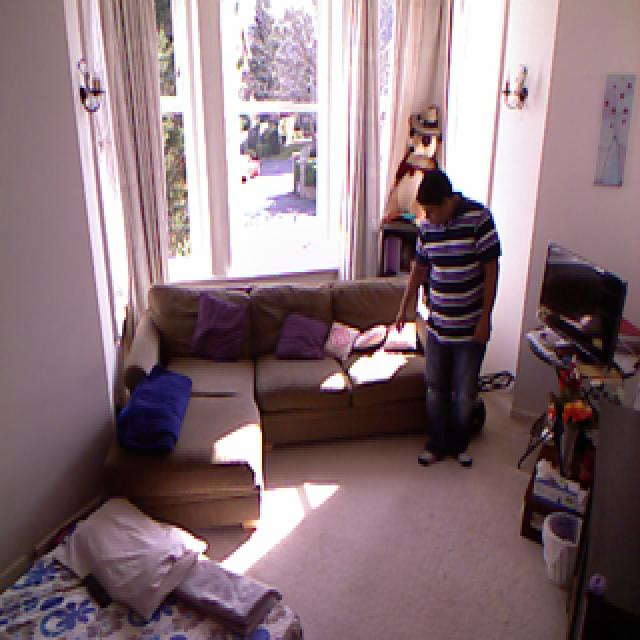standing: (403, 169, 501, 458)
